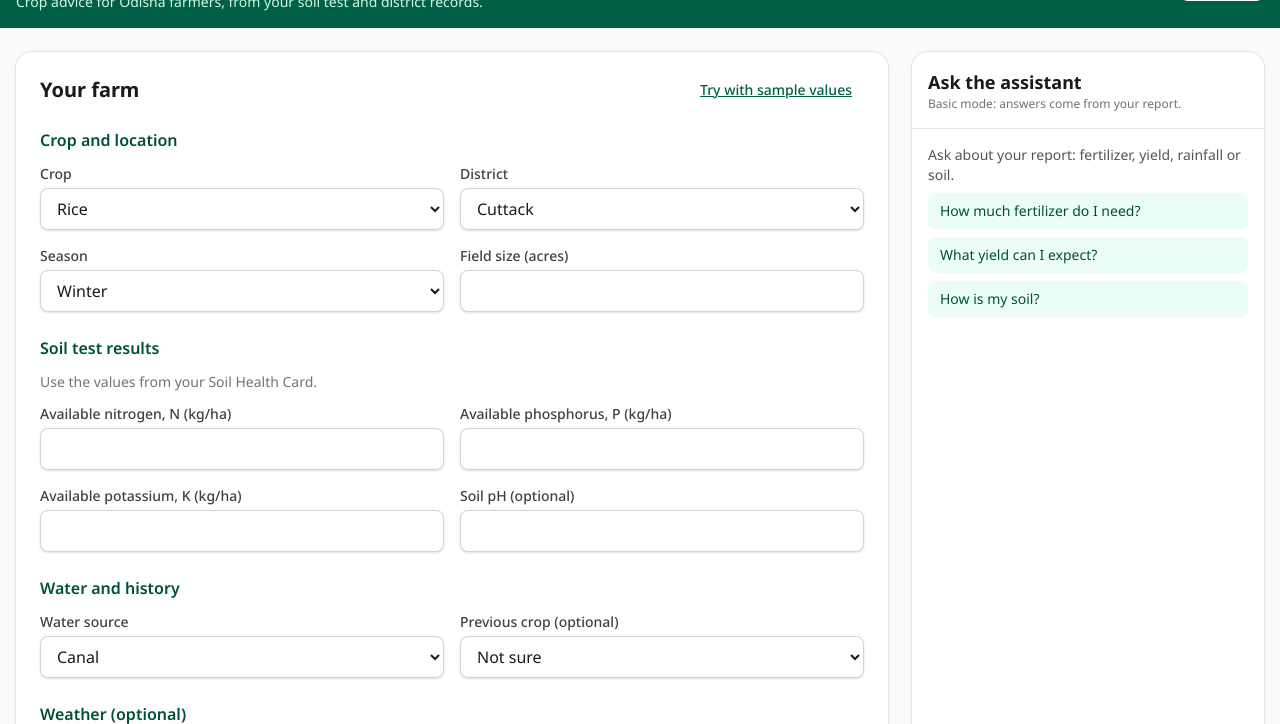
Test: farm report › says so instead of inventing a dose when none is verified
Click the button "Try with sample values".
click(776, 90)  # box [688,76,864,104]
(page scrolled)
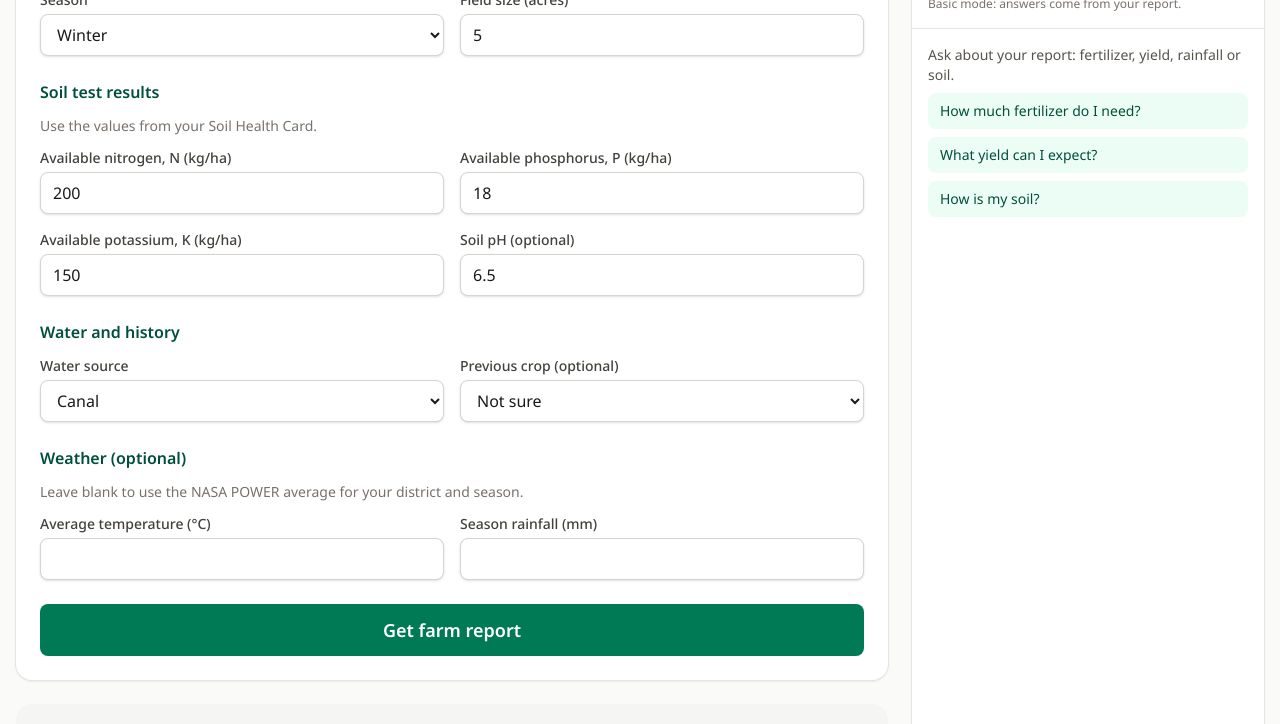
Click the button "Get farm report".
click(452, 630)  # box [40,604,864,656]
(page scrolled)
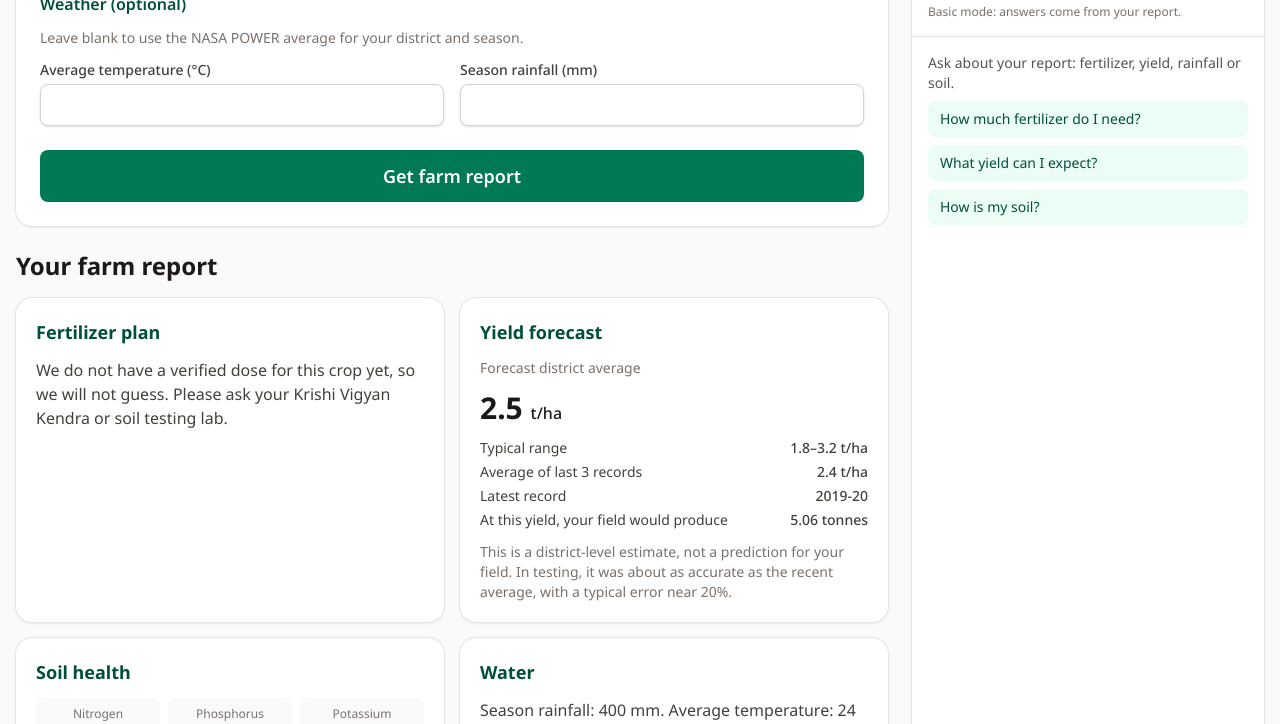
Now the text "We do not have a verified dose for this crop yet, so we will not guess. Please ask your Krishi Vigyan Kendra or soil tes" is shown, box [36,359,415,429]
